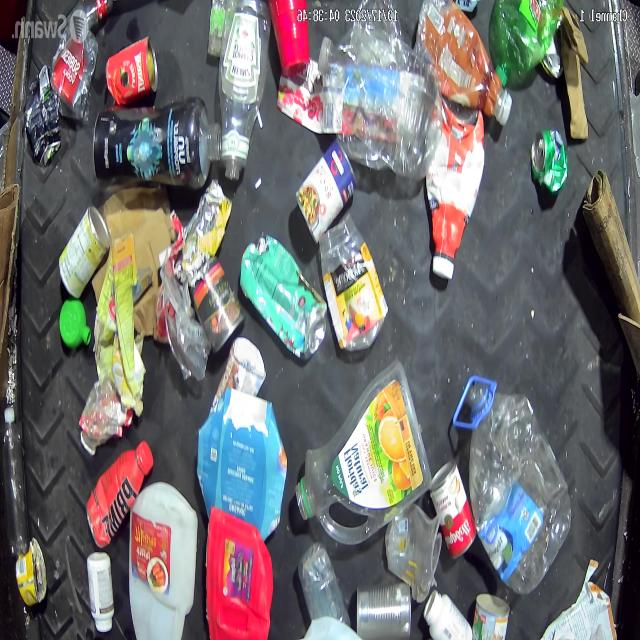can: (295, 138, 357, 245), (430, 456, 478, 560), (58, 205, 110, 301), (106, 37, 159, 104), (354, 581, 411, 639), (532, 127, 568, 195)
milk_jug: (128, 484, 196, 638)
non_white_jug: (200, 392, 286, 535), (206, 507, 274, 638)
plastic_bottle: (295, 360, 431, 546), (218, 5, 264, 181), (2, 406, 28, 557)
